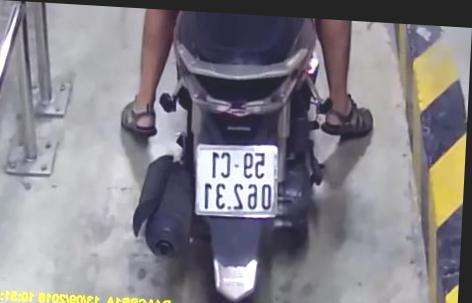License_Plate: (183, 132, 292, 225)
